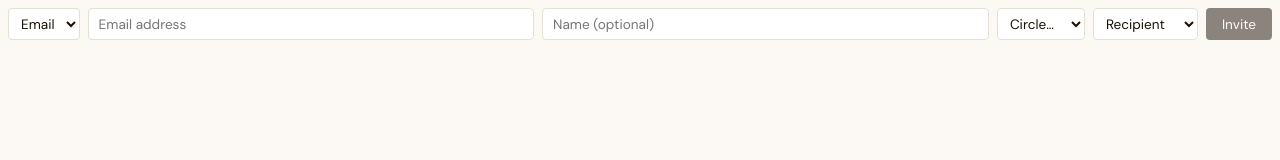
Scenario: InviteForm — submit button validation › button is enabled after providing email AND selecting a circle
The image size is (1280, 160).
// Fill in email
Type "alice@example.com" into the field with placeholder "Email address" at (311, 24), box [88,8,534,40]
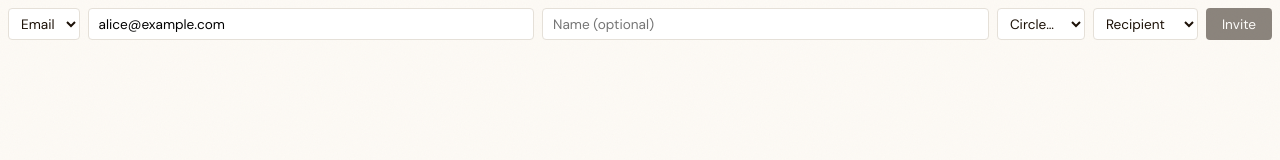
// Select a circle (use the select that has the "Circle…" placeholder)
Select "General" in the 2nd dropdown showing "Circle…" at (1041, 24), box [997,8,1085,40]
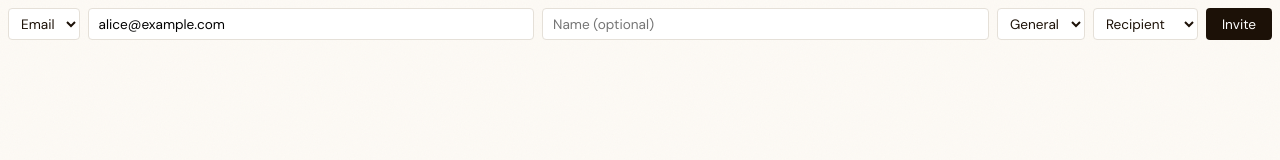
Expected: the button "Invite" is enabled, [1206,8,1272,40]
